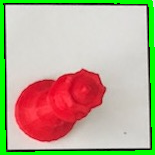Red Queen: (12, 68, 107, 145)
